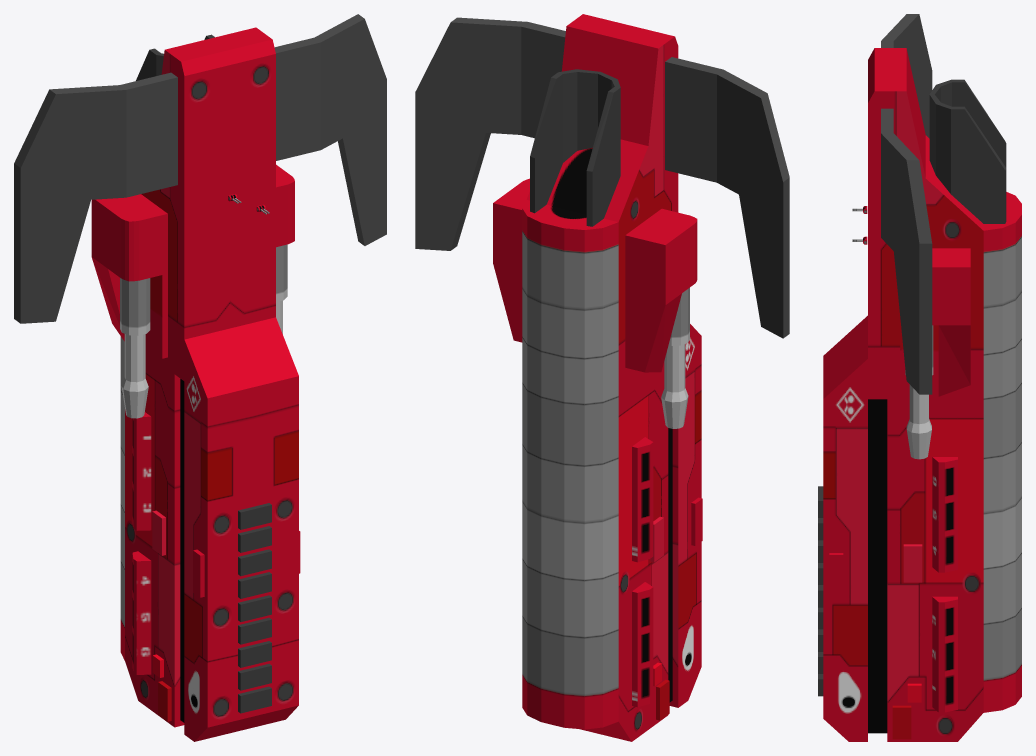
File: airfrigatep1_wtf.obj
The picture shows the model from 3 angles, left to right: view 1: azimuth 30°, elevation 25°; view 2: azimuth 150°, elevation 25°; view 3: azimuth 270°, elevation 25°; orthographic projection. The views are drawn at different scales.
Parts seen in each view (by area): view 1: group1; view 2: group1; view 3: group1.
Boxes of the visible parts, x1=… form: group1: x1=14, y1=14, x2=386, y2=741; group1: x1=415, y1=14, x2=789, y2=741; group1: x1=818, y1=14, x2=1021, y2=741.
Bounding box in the file's own units: 377 × 660 × 187.
